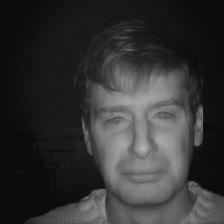normal: (64, 24, 208, 210)
